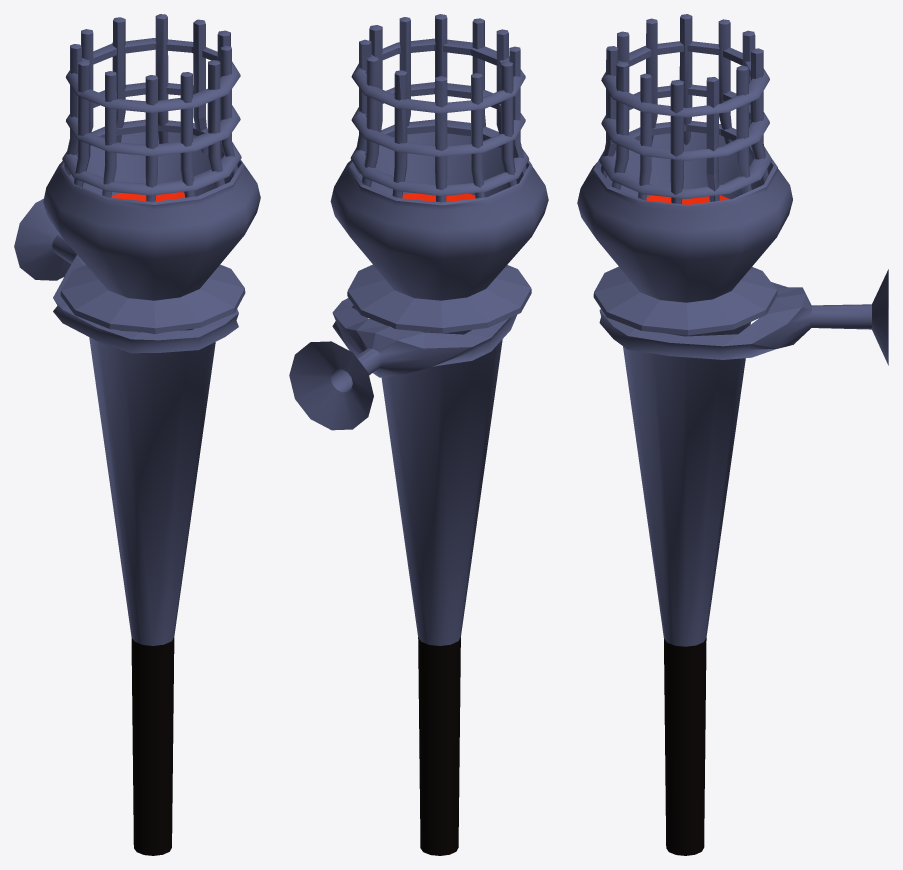
The model's file is TorchWall_8.fbx.
The picture shows the model from 3 angles, left to right: view 1: azimuth 30°, elevation 25°; view 2: azimuth 150°, elevation 25°; view 3: azimuth 270°, elevation 25°; orthographic projection.
Parts seen in each view (by area): view 1: TorchWall_8; view 2: TorchWall_8; view 3: TorchWall_8.
Part boxes in pixels (left/top/right/bottom): TorchWall_8: left=14, top=14, right=260, bottom=855; TorchWall_8: left=289, top=14, right=548, bottom=855; TorchWall_8: left=577, top=14, right=888, bottom=855.
Bounding box in the file's own units: 13.68 × 19.64 × 55.7.
